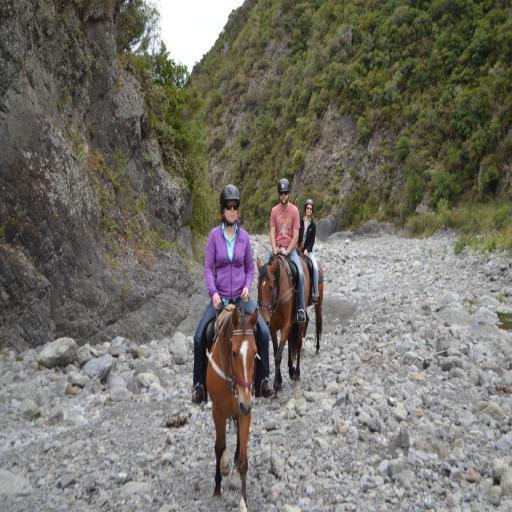horse: (204, 306, 258, 512), (256, 256, 324, 400), (295, 254, 323, 357)
